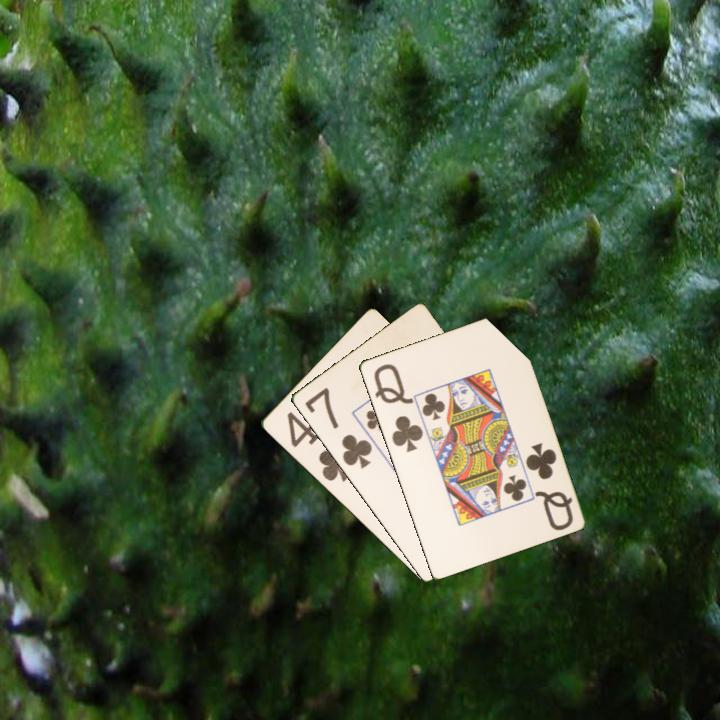4c: (283, 408, 354, 485)
7c: (301, 384, 375, 472)
Qc: (370, 360, 426, 455), (522, 439, 576, 533)
